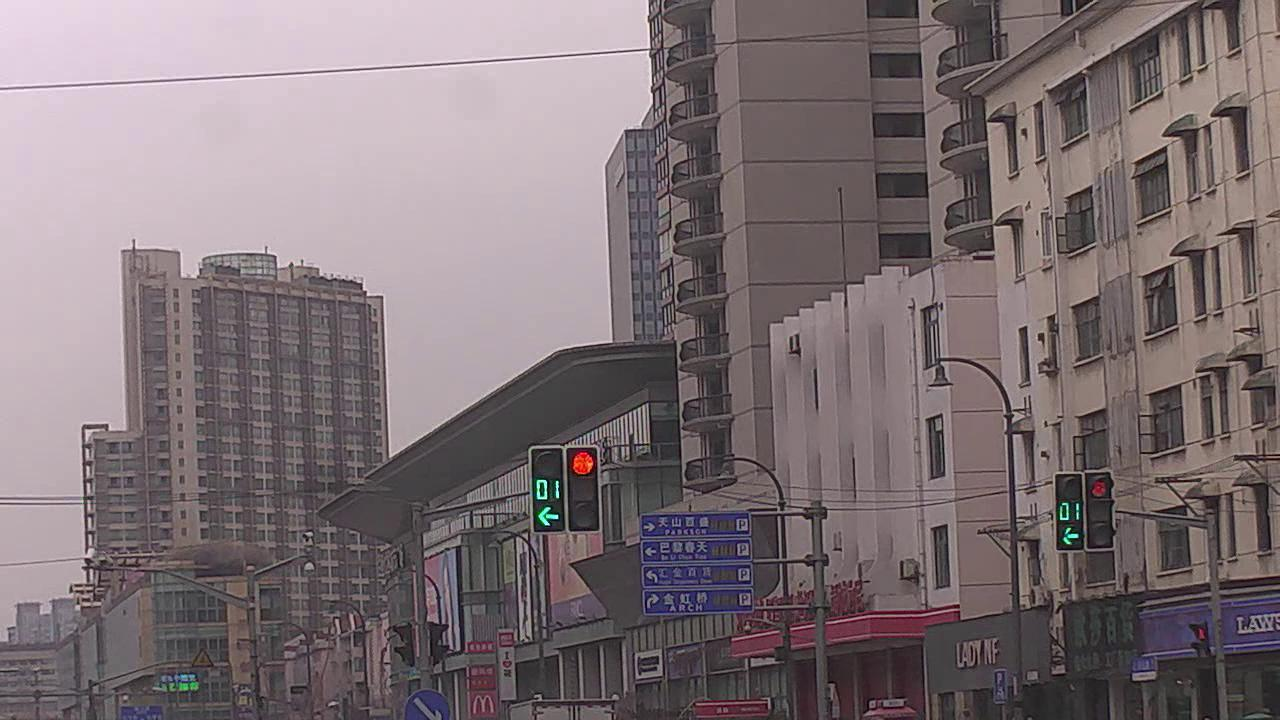traffic_light: (532, 442, 569, 534), (568, 448, 602, 534), (1087, 471, 1118, 549), (1057, 471, 1084, 551)
